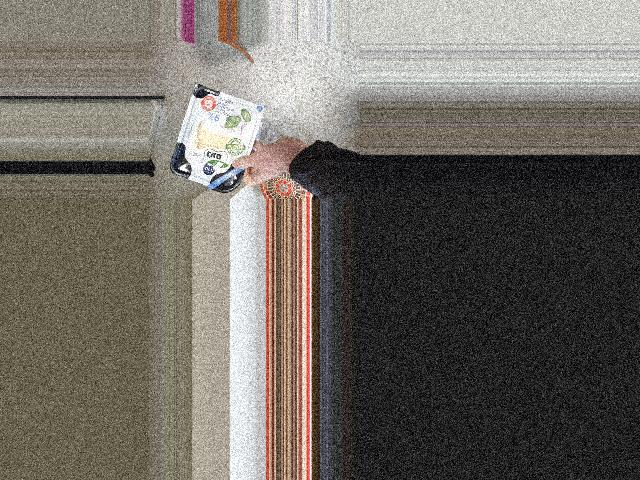cheese: (182, 96, 250, 183)
